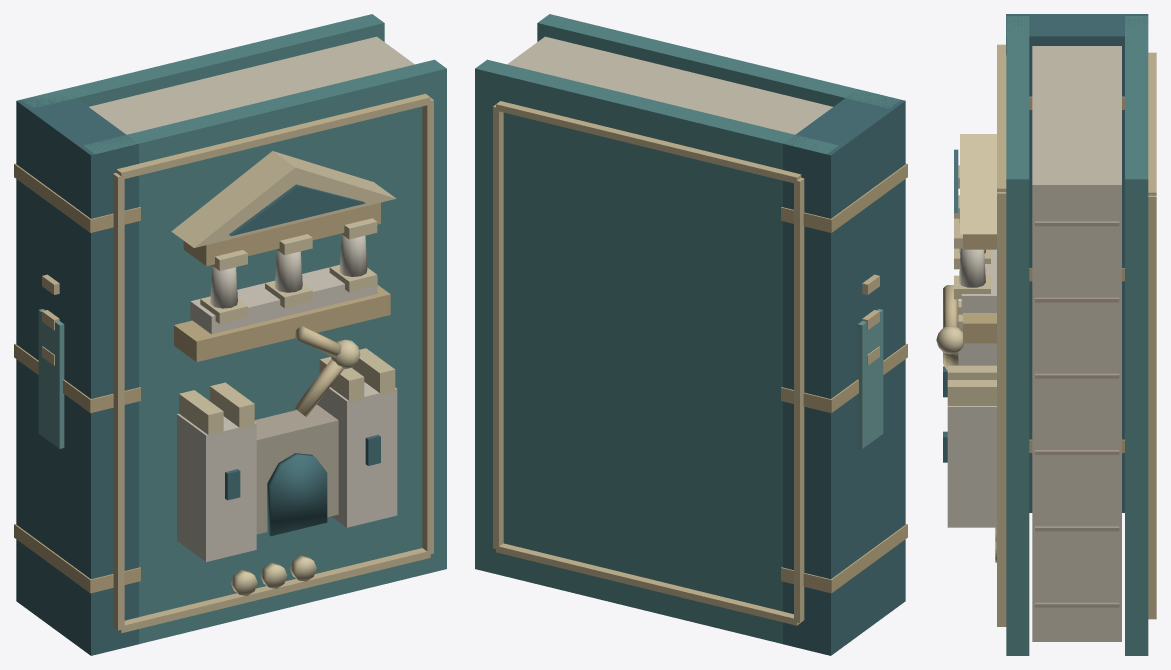
Rendered from ART-40.glb.
The picture shows the model from 3 angles, left to right: view 1: azimuth 30°, elevation 25°; view 2: azimuth 150°, elevation 25°; view 3: azimuth 270°, elevation 25°; orthographic projection. The views are drawn at different scales.
Visible parts, largest first — view 1: world; view 2: world; view 3: world.
Boxes of the visible parts, x1,y1,x2,y2 form: world: [14, 14, 446, 655]; world: [475, 14, 907, 655]; world: [936, 14, 1156, 655].
Bounding box in the file's own units: 1.51 × 2 × 0.8388.
